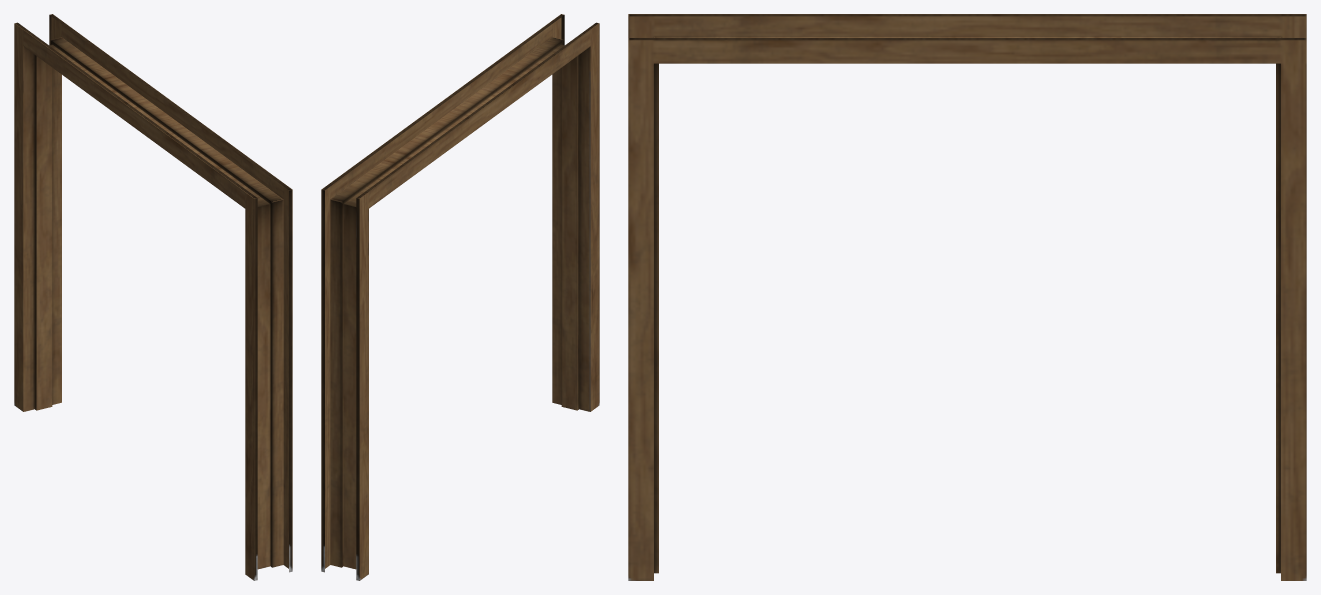
Rendered from Double Door Frame A.fbx.
The picture shows the model from 3 angles, left to right: view 1: azimuth 30°, elevation 25°; view 2: azimuth 150°, elevation 25°; view 3: azimuth 270°, elevation 25°; orthographic projection. The views are drawn at different scales.
Visible parts, largest first — view 1: Double_Door_Frame_A; view 2: Double_Door_Frame_A; view 3: Double_Door_Frame_A.
Part boxes in pixels (left/top/right/bottom): Double_Door_Frame_A: left=14, top=14, right=292, bottom=580; Double_Door_Frame_A: left=321, top=14, right=599, bottom=580; Double_Door_Frame_A: left=628, top=14, right=1306, bottom=580.
Size of the model in its own units: 24.37 by 232 by 264.
